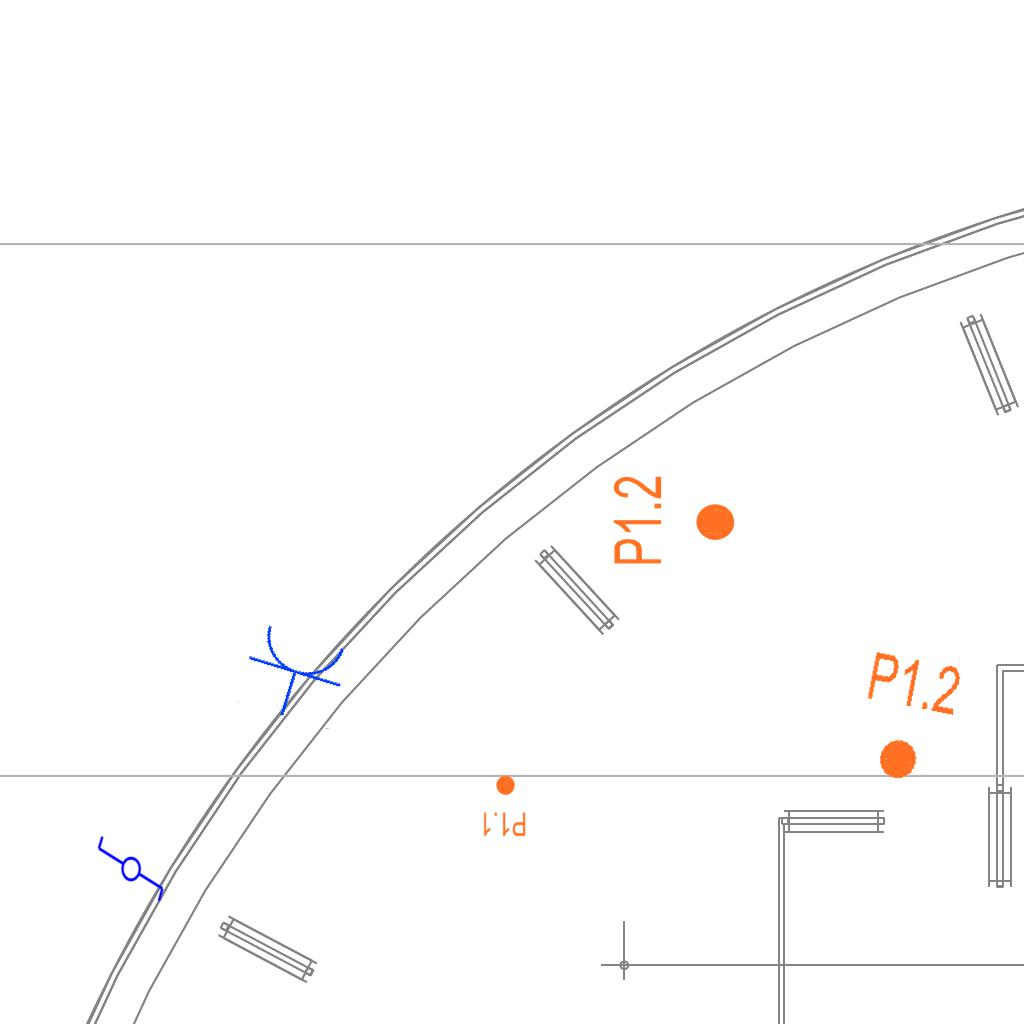Downlight_LED_Einbauleuchten_Flur: (849, 647, 966, 791), (610, 474, 738, 567), (481, 774, 527, 838)
Schukosteckdose_einfach: (234, 618, 356, 731)
Wechselschalter: (94, 834, 166, 912)
